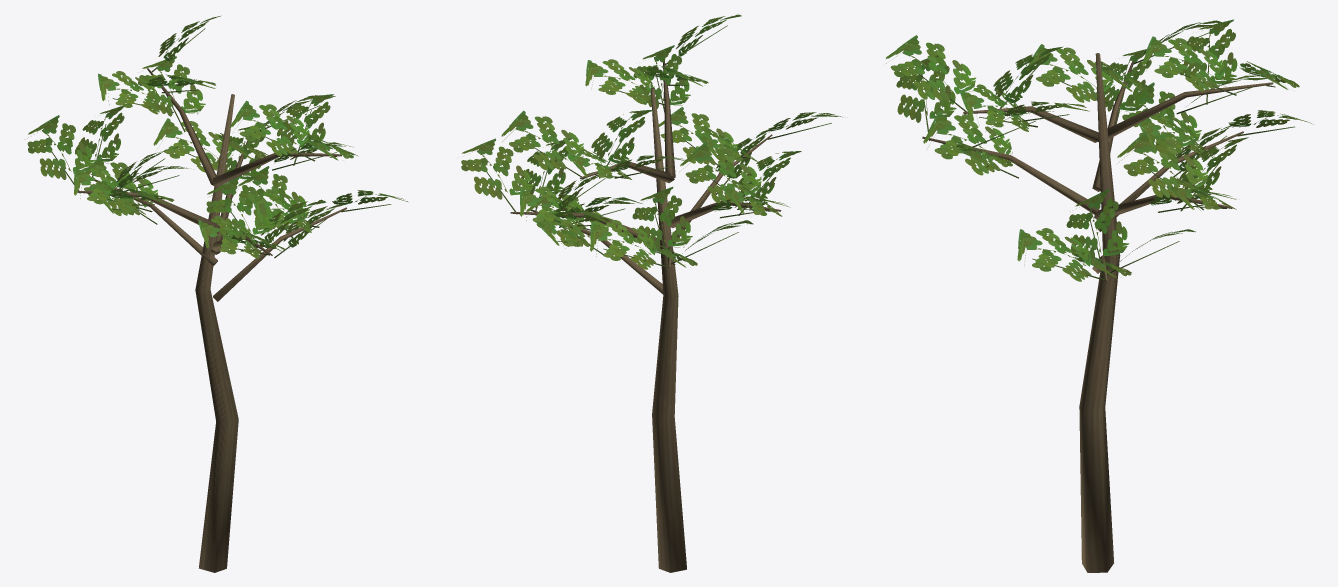
The model's file is Drumstick_Muringa.glb.
3 views of the same model, side by side, from view 1: azimuth 30°, elevation 25°; view 2: azimuth 150°, elevation 25°; view 3: azimuth 270°, elevation 25° (orthographic). The views are drawn at different scales.
Visible parts, largest first — view 1: Drumstick_Muringa; view 2: Drumstick_Muringa; view 3: Drumstick_Muringa.
Part boxes in pixels (box(x1,y1,x2,y2)): Drumstick_Muringa: box(25, 15, 408, 572); Drumstick_Muringa: box(461, 14, 842, 572); Drumstick_Muringa: box(886, 19, 1313, 572).
Size of the model in its own units: 2.16 by 3.1 by 2.28.
Materials: 1 (1 with a texture image).
